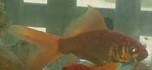Gold Fish: (8, 4, 149, 70)
